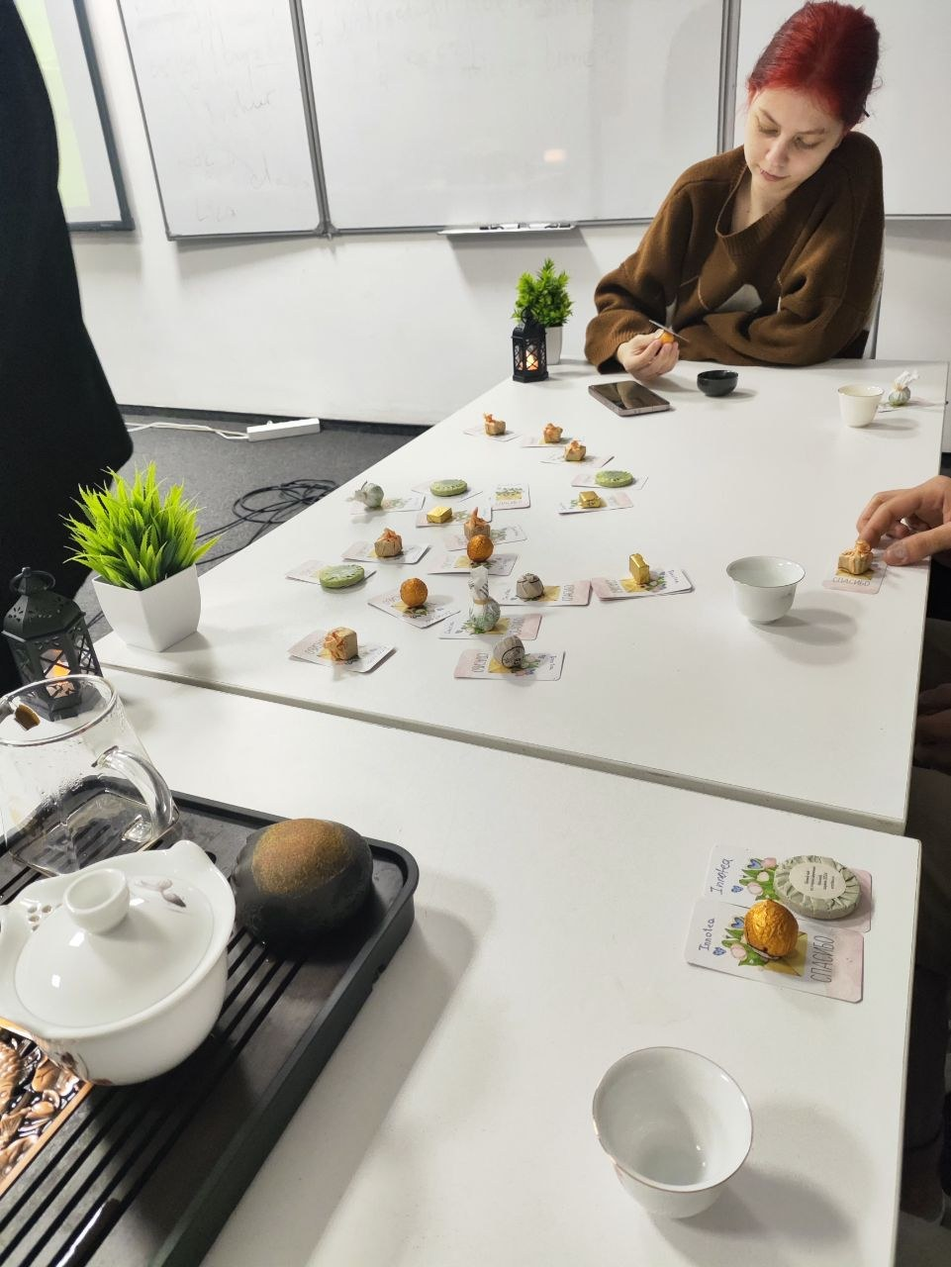cell phone: (591, 376, 669, 416)
